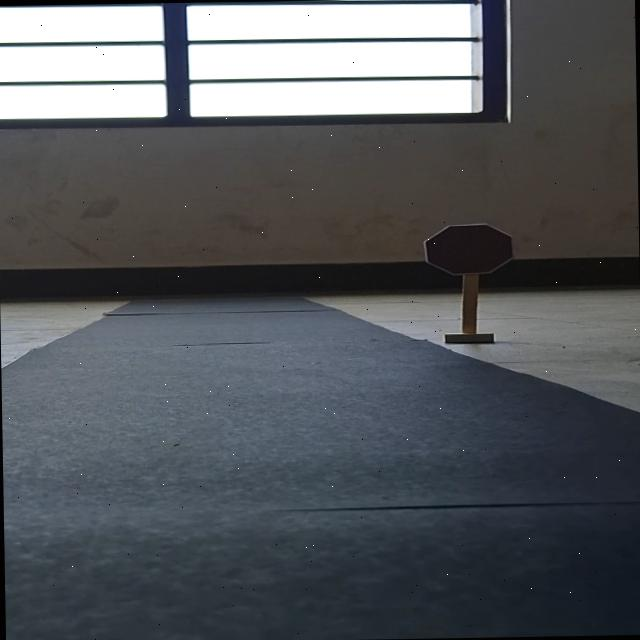Stop: (422, 223, 516, 277)
